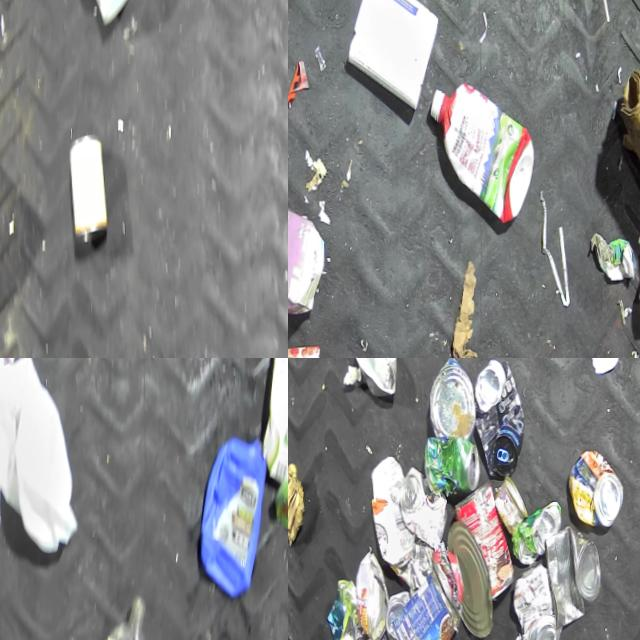can: (453, 479, 518, 600), (544, 521, 606, 628), (472, 358, 527, 475), (447, 519, 497, 637), (393, 565, 466, 640), (67, 128, 111, 241), (569, 445, 626, 525), (401, 463, 451, 549), (513, 559, 565, 640), (428, 358, 477, 437), (426, 432, 484, 495), (514, 497, 564, 564), (356, 548, 392, 640), (495, 472, 531, 532), (353, 358, 399, 394), (388, 587, 413, 640)
milk_jug: (0, 358, 84, 556)
non_white_jug: (429, 76, 537, 221), (195, 426, 273, 599), (288, 174, 327, 318)
plastic_bottle: (89, 590, 156, 640)
